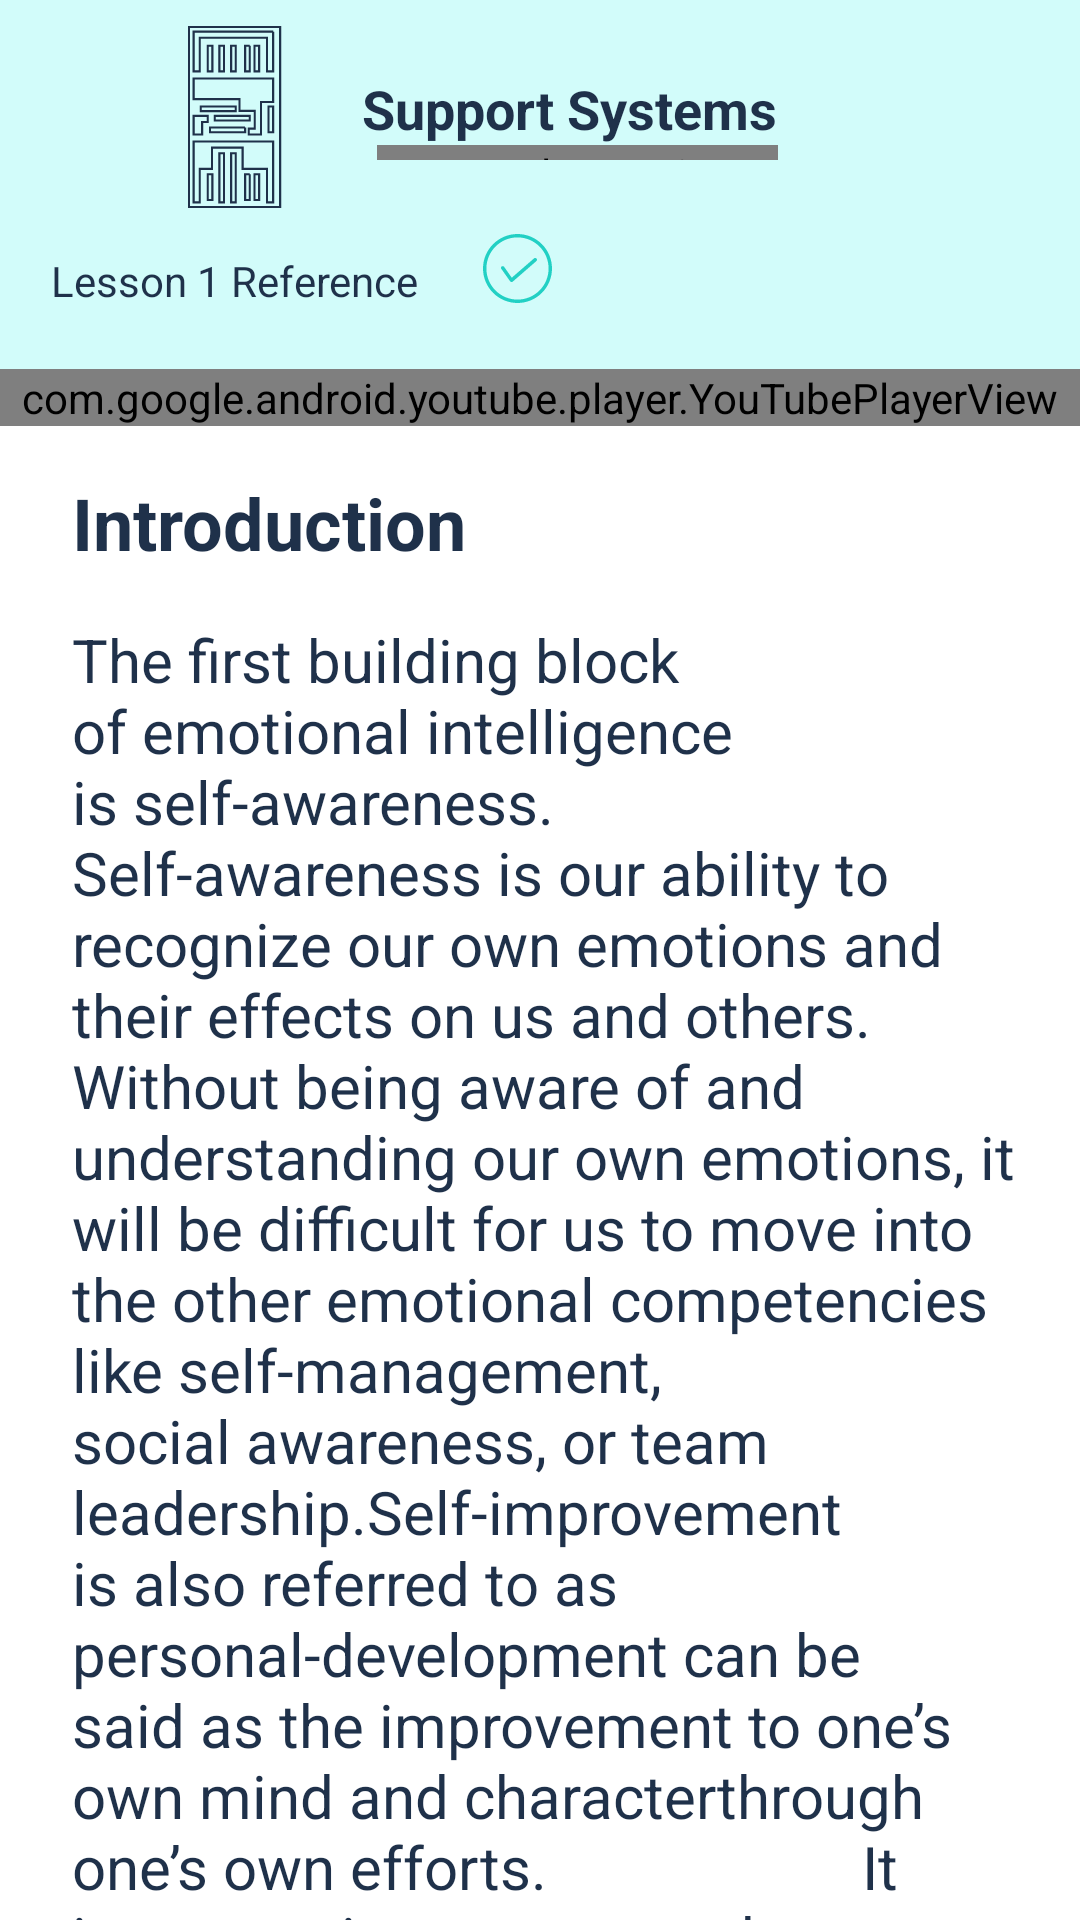

Named icons in this screenshot (1080x1920) and their centers, (x,y):
checked: (517,268)
